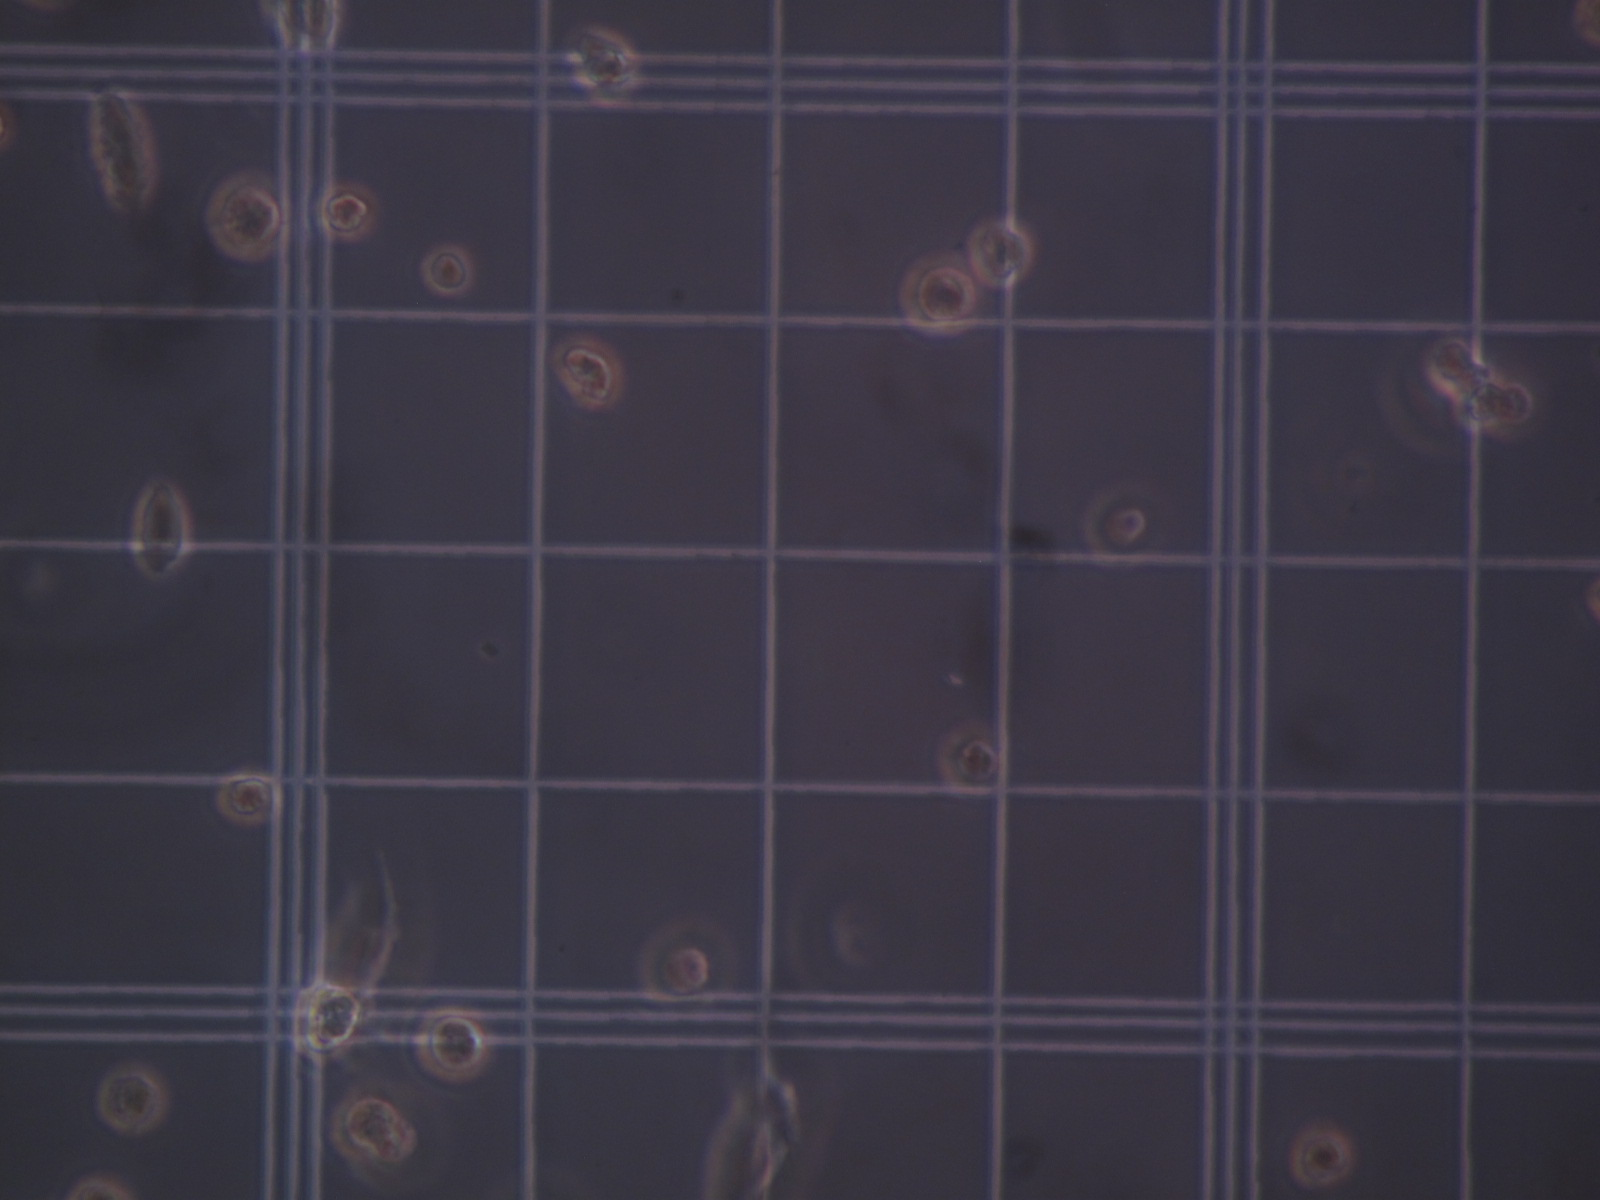hemo: (326, 1082, 420, 1166), (897, 250, 985, 338), (207, 169, 286, 263), (134, 475, 191, 580), (643, 924, 712, 1008), (414, 1006, 488, 1083), (296, 978, 362, 1063), (567, 24, 637, 102), (554, 338, 626, 412), (100, 1060, 169, 1137), (1083, 487, 1144, 570), (1459, 379, 1538, 442), (934, 718, 997, 797), (969, 218, 1031, 290), (215, 768, 283, 824), (317, 180, 378, 243), (267, 1, 341, 50), (1288, 1131, 1353, 1186), (1426, 334, 1484, 395), (420, 243, 475, 299)
